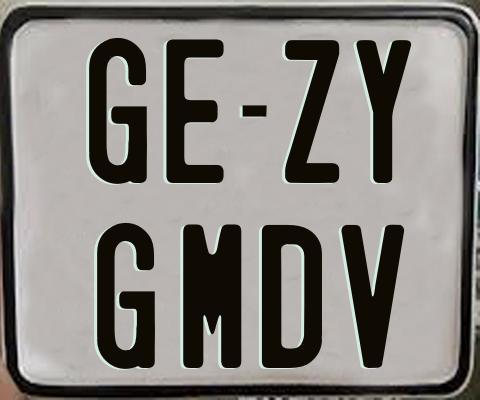D: (259, 224, 319, 371)
E: (164, 36, 227, 180)
G: (95, 223, 159, 372), (88, 36, 148, 184)
M: (180, 224, 239, 374)
V: (341, 223, 406, 371)
Y: (356, 40, 416, 188)
Z: (283, 37, 343, 184)
